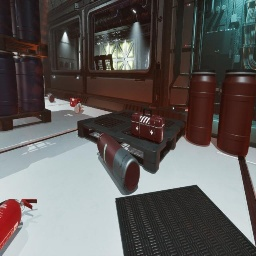0: (74, 103, 82, 114)
FireExtinguisher ]: (0, 199, 37, 251)
FirstAidBox ,: (131, 107, 165, 144), (70, 95, 81, 107)
NitrogenTank ,: (97, 133, 140, 193), (48, 93, 54, 103)
